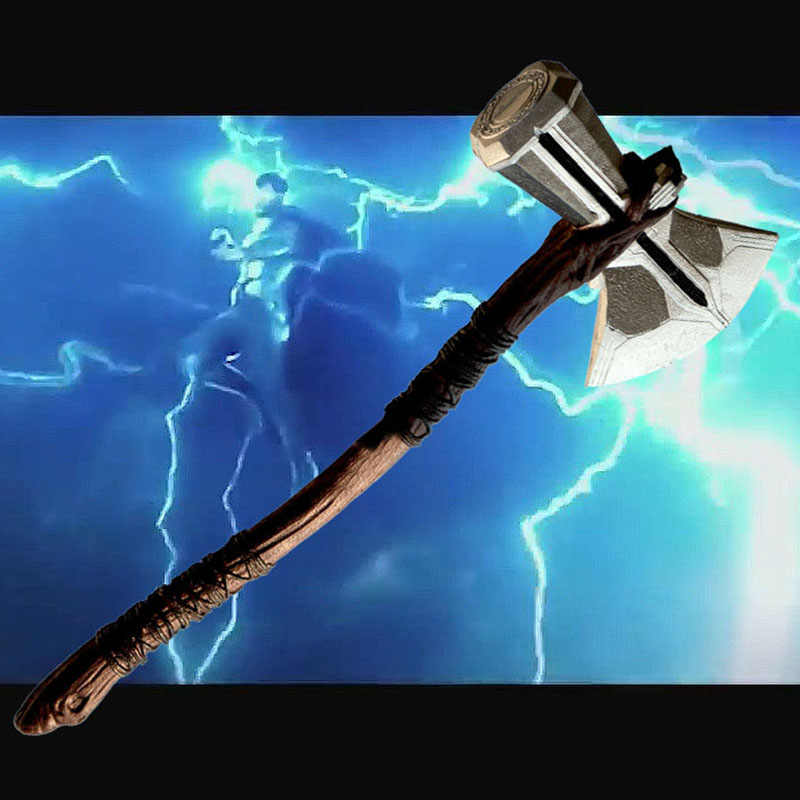THOR Hammer: (10, 54, 779, 704)
